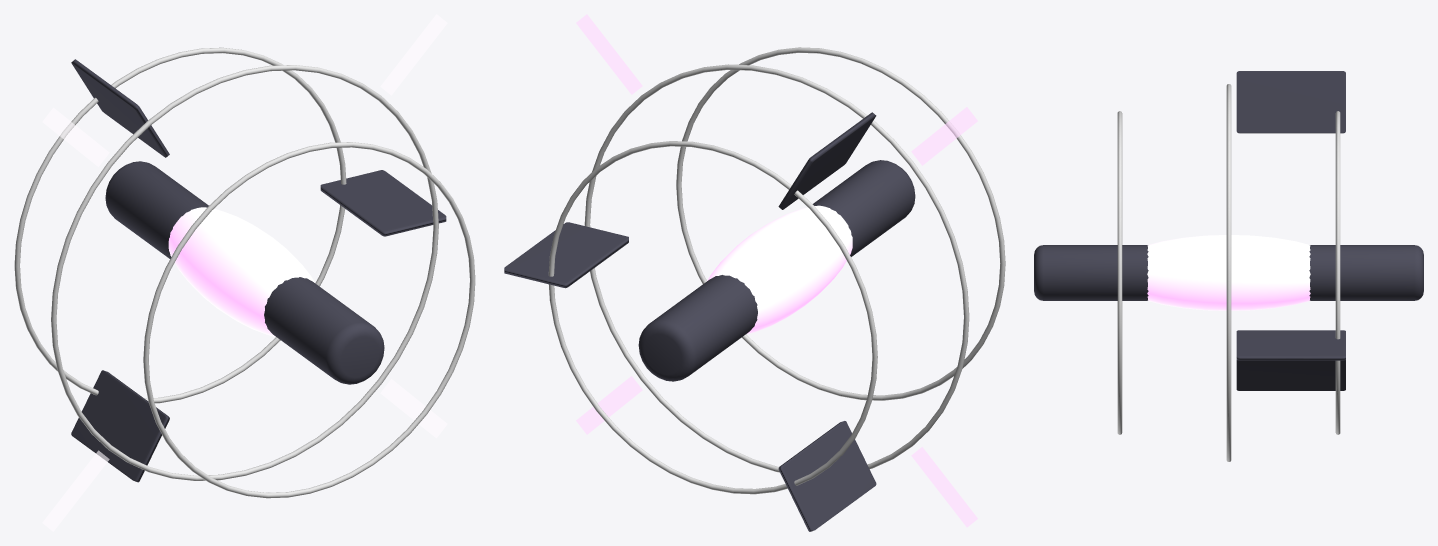
The model's file is data_capsule.glb.
3 views of the same model, side by side, from view 1: azimuth 30°, elevation 25°; view 2: azimuth 150°, elevation 25°; view 3: azimuth 270°, elevation 25° (orthographic). The views are drawn at different scales.
Visible parts, largest first — view 1: MainHull, EmissiveCore, Ring_0, Ring_1, Fin_2, Ring_2, Fin_0, Fin_1, Panel_0, Panel_2, Panel_1, Panel_3; view 2: MainHull, EmissiveCore, Ring_0, Ring_2, Ring_1, Fin_2, Fin_0, Fin_1, Panel_0, Panel_2, Panel_1, Panel_3; view 3: MainHull, EmissiveCore, Fin_1, Fin_0, Fin_2, Ring_0, Ring_1, Ring_2.
Part boxes in pixels (box(x1,y1,x2,y2)): MainHull: box(105, 161, 384, 384); EmissiveCore: box(168, 207, 315, 336); Ring_0: box(51, 65, 438, 480); Ring_1: box(143, 142, 475, 498); Fin_2: box(71, 370, 169, 482); Ring_2: box(14, 47, 346, 403); Fin_0: box(320, 170, 446, 236); Fin_1: box(71, 59, 169, 157); Panel_0: box(380, 14, 447, 95); Panel_2: box(42, 450, 109, 531); Panel_1: box(42, 108, 109, 166); Panel_3: box(380, 379, 447, 437); MainHull: box(638, 160, 915, 381); EmissiveCore: box(707, 205, 852, 334); Ring_0: box(584, 64, 969, 472); Ring_2: box(548, 141, 877, 494); Ring_1: box(676, 47, 1005, 400); Fin_2: box(778, 421, 876, 531); Fin_0: box(504, 222, 628, 288); Fin_1: box(778, 112, 876, 209); Panel_0: box(576, 14, 642, 94); Panel_2: box(911, 447, 977, 527); Panel_1: box(911, 107, 977, 165); Panel_3: box(576, 376, 642, 434); MainHull: box(1034, 245, 1423, 300); EmissiveCore: box(1147, 235, 1310, 310); Fin_1: box(1236, 71, 1345, 133); Fin_0: box(1236, 330, 1345, 360); Fin_2: box(1236, 360, 1345, 390); Ring_0: box(1226, 84, 1231, 461); Ring_1: box(1117, 111, 1122, 434); Ring_2: box(1335, 111, 1340, 434).
Size of the model in its own units: 2.57 by 2.55 by 2.5.
